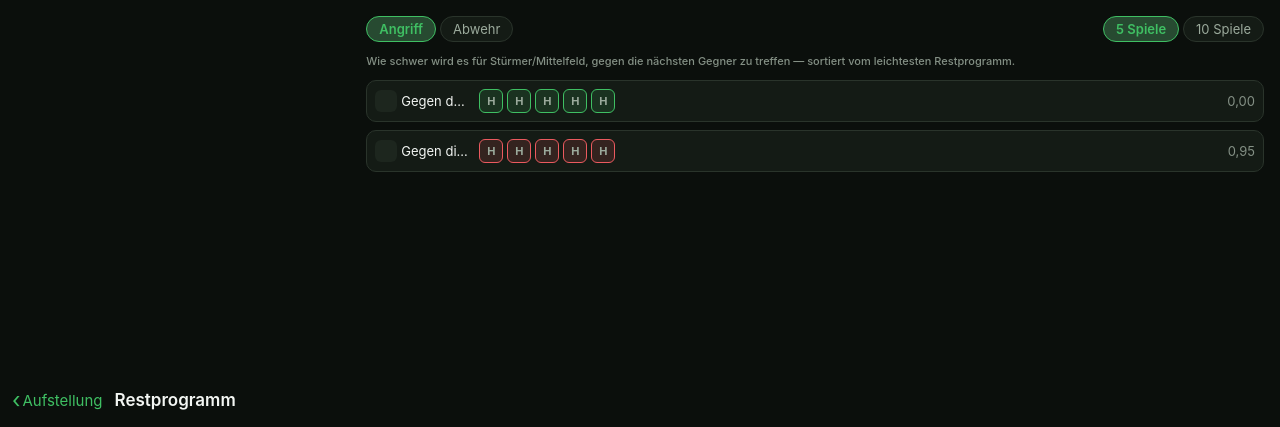
Test: FixturesScreen › erklärt den gewählten Blickwinkel im Text
Check: the text "für Stürmer/Mittelfeld" is shown, box [366,54,1015,68]
Click the button "Abwehr".
click(477, 29)  # box [440,16,513,42]
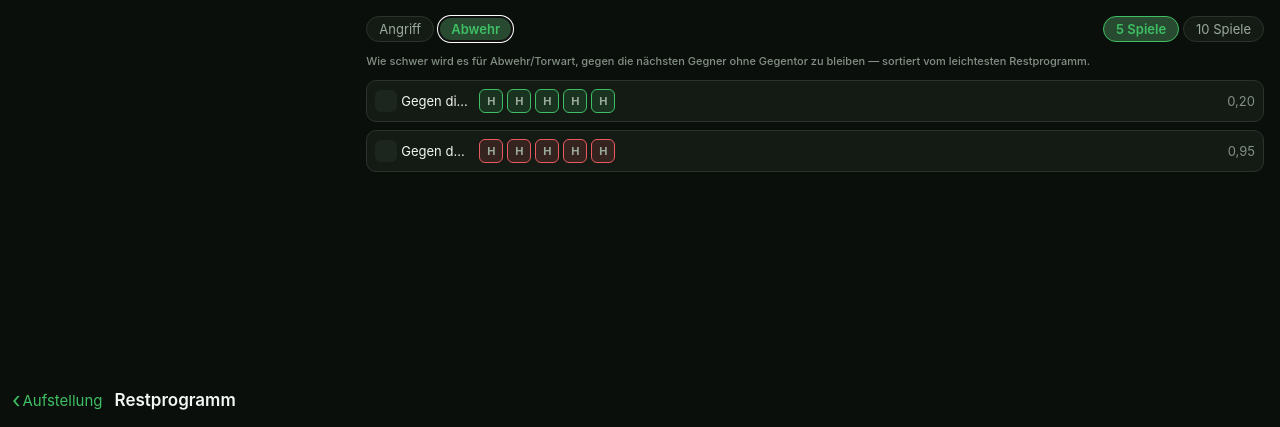
Check: the text "ohne Gegentor zu bleiben" is shown, box [366,54,1090,68]
